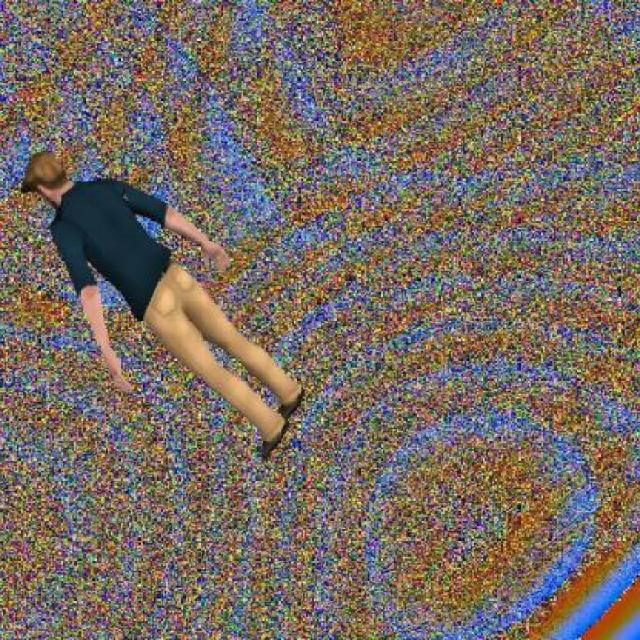Person: (16, 148, 310, 463)
